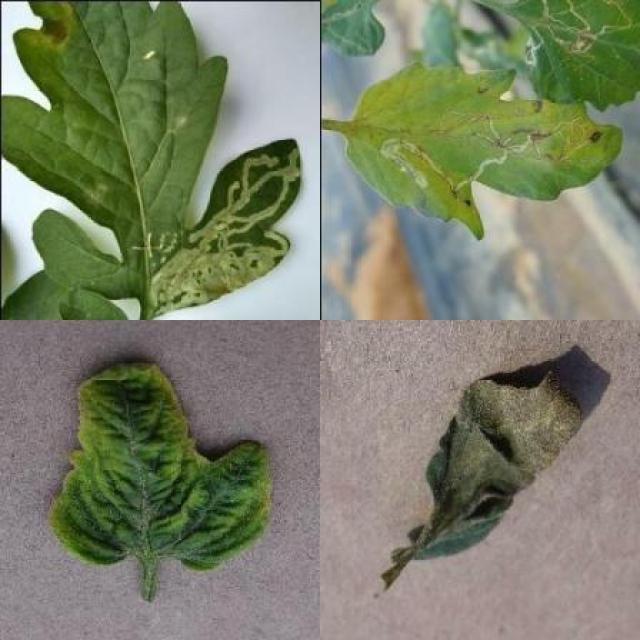Late Blight: (409, 368, 581, 559)
Leaf Miner: (0, 0, 301, 320), (344, 62, 622, 245)
Yellow Leaf Curl Virus: (50, 362, 276, 571)
